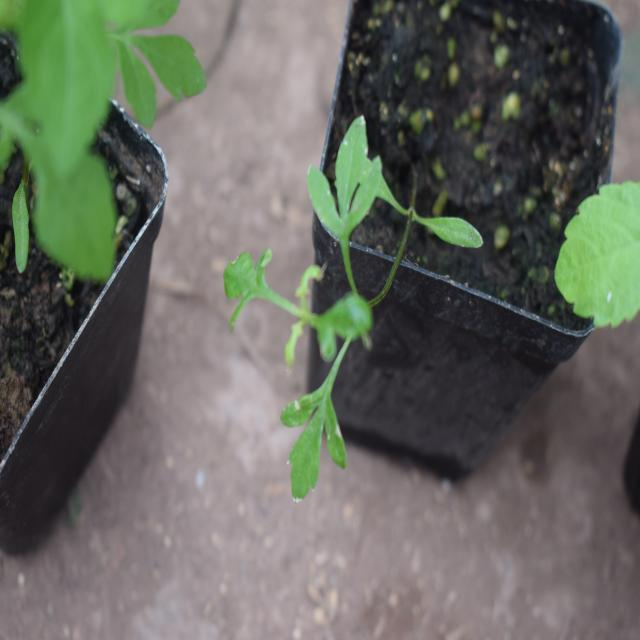Bidens pilosa: (227, 95, 445, 492)
